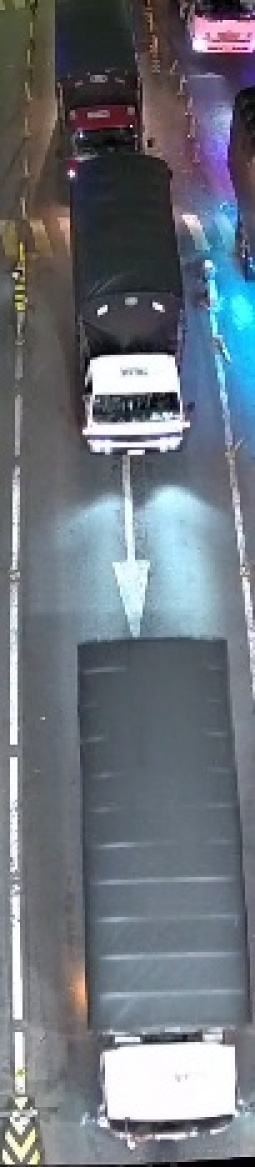truck: (67, 630, 253, 1141), (67, 157, 201, 465), (54, 2, 156, 160)
